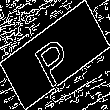P_NW: (31, 24, 79, 86)
